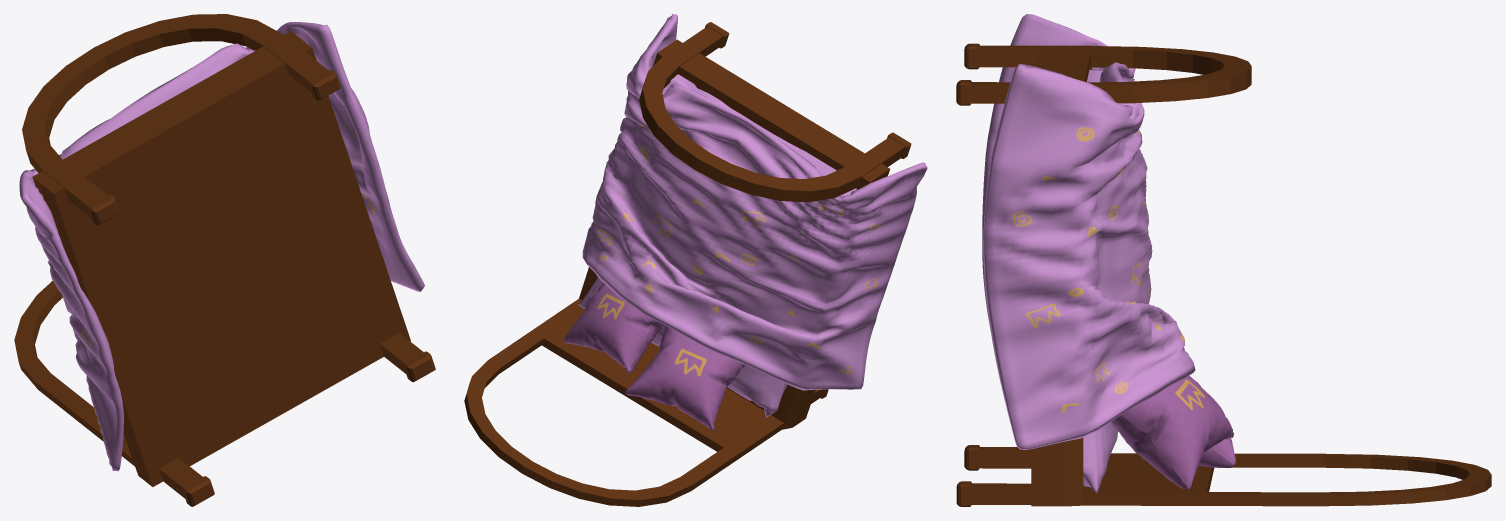
File: Bed_Kids.fbx
3 renders of one model, left to right at view 1: azimuth 30°, elevation 25°; view 2: azimuth 150°, elevation 25°; view 3: azimuth 270°, elevation 25°, orthographic. The views are drawn at different scales.
Parts seen in each view (by area): view 1: Bedroom_kids; view 2: Bedroom_kids; view 3: Bedroom_kids.
Boxes of the visible parts, left/top/right/bottom form: Bedroom_kids: left=14, top=14, right=435, bottom=506; Bedroom_kids: left=464, top=14, right=927, bottom=506; Bedroom_kids: left=956, top=14, right=1491, bottom=506.
Bounding box in the file's own units: 237 × 242 × 240.
